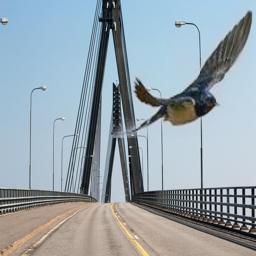Swallow: (113, 8, 253, 138)
